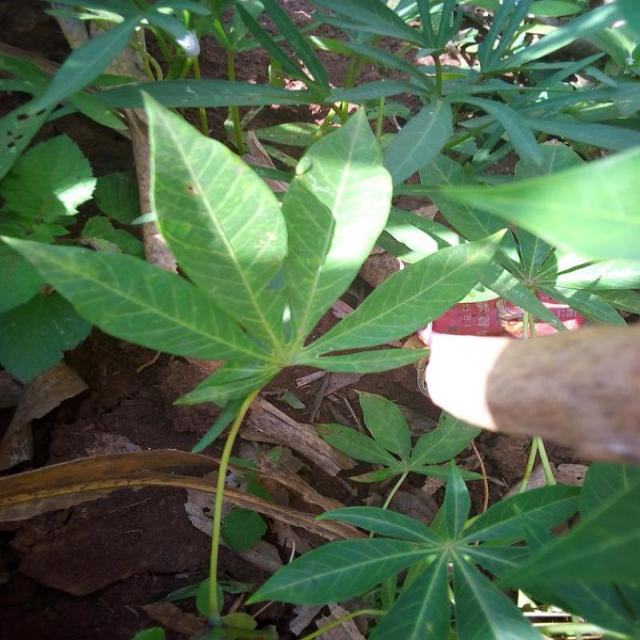cassava leaf: (142, 89, 290, 355), (282, 103, 394, 350)
